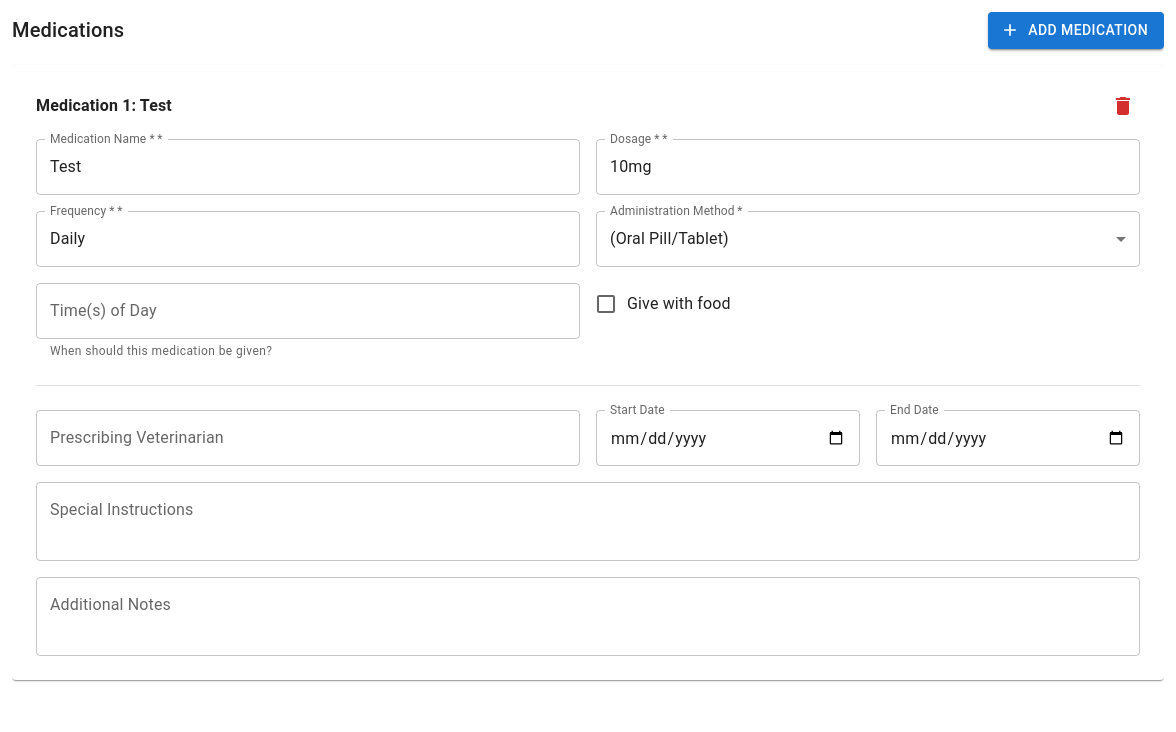
Test case: MedicationForm › displays all administration method options
# Click the select to open options
Press the mouse on the dropdown named "Administration Method": (669, 238) [610,229,729,248]
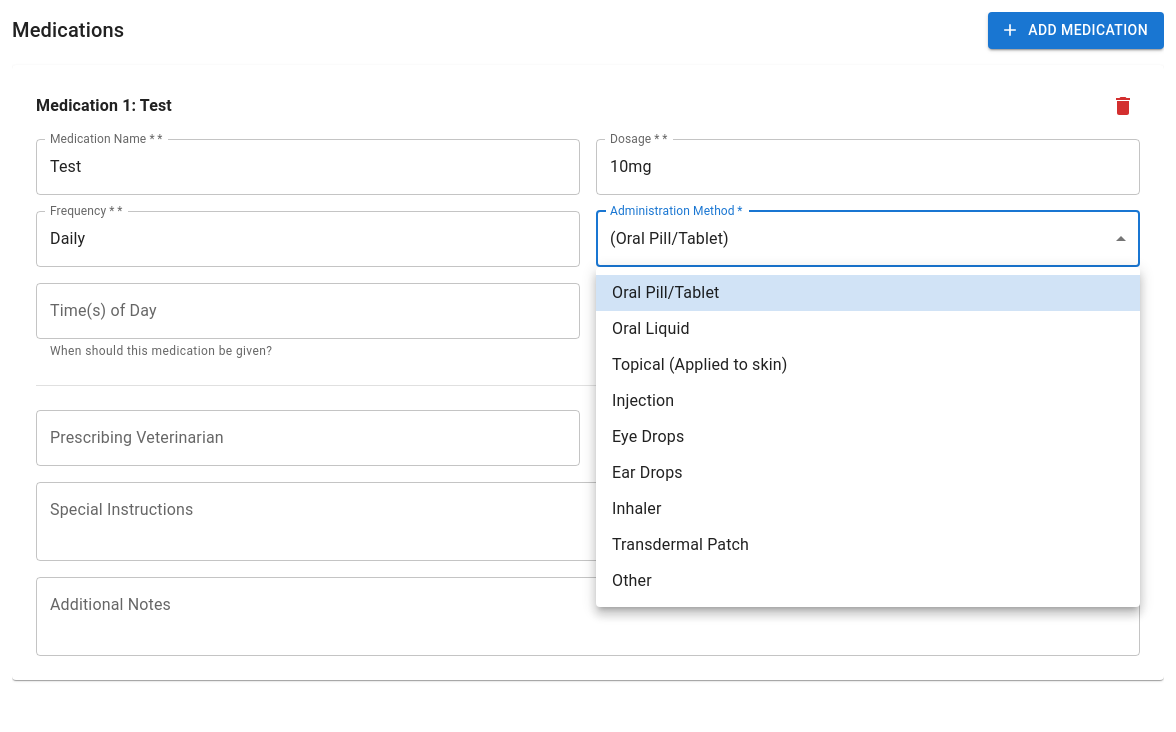
Now the option "Oral Pill/Tablet" is shown, box [596,275,1140,311]
Now the option "Oral Liquid" is shown, box [612,319,690,338]
Now the option "Topical (Applied to skin)" is shown, box [612,355,788,374]
